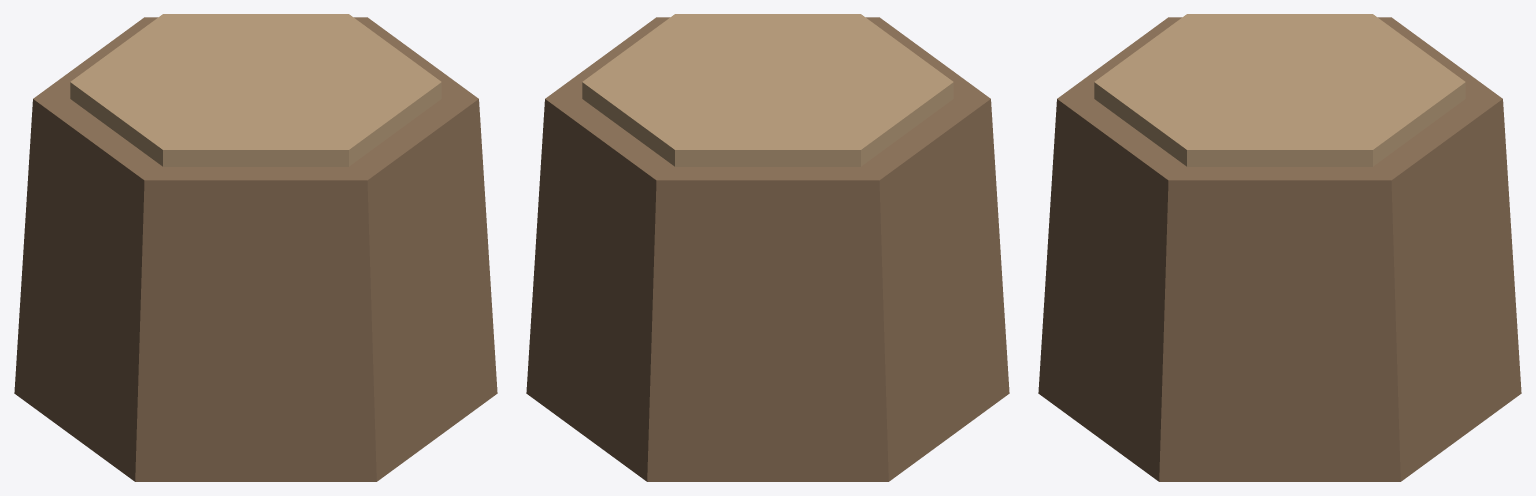
File: tree_stump.glb
3 views of the same model, side by side, from view 1: azimuth 30°, elevation 25°; view 2: azimuth 150°, elevation 25°; view 3: azimuth 270°, elevation 25° (orthographic).
Parts seen in each view (by area): view 1: tree_stump; view 2: tree_stump; view 3: tree_stump.
Part boxes in pixels (x1,y1,x2,y2): tree_stump: [14, 14, 497, 481]; tree_stump: [526, 14, 1009, 481]; tree_stump: [1038, 14, 1521, 481].
Size of the model in its own units: 0.4503 by 0.37 by 0.52.
